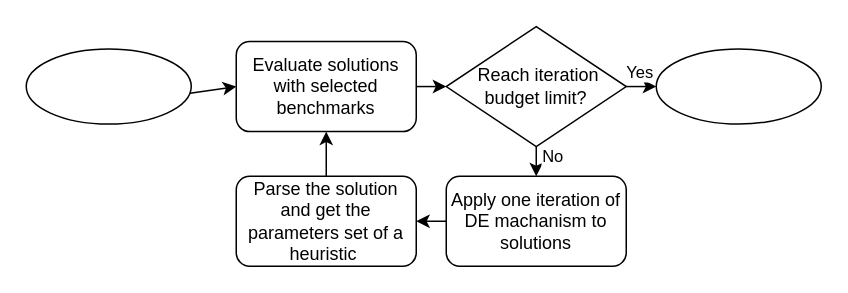
This 848x293 diagram has some shape labels left out. The box of each missing label's shape, as (x1, y1, x2, y2) in pixels:
Generate initial solutions: (25, 48, 191, 124)
Output final solution: (655, 48, 821, 124)
